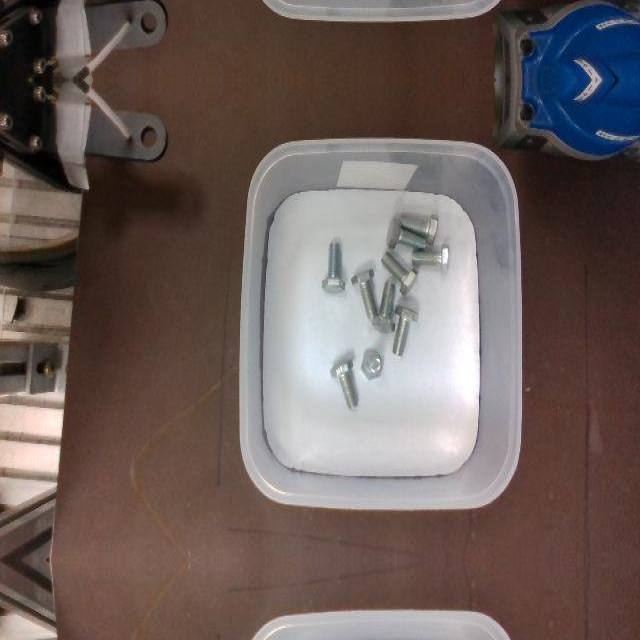screw: (380, 252, 418, 296), (392, 305, 419, 357), (386, 216, 426, 250), (330, 359, 357, 409), (350, 268, 377, 318), (400, 214, 439, 246), (372, 281, 395, 333), (322, 241, 345, 293), (411, 243, 449, 273), (361, 349, 384, 379)
